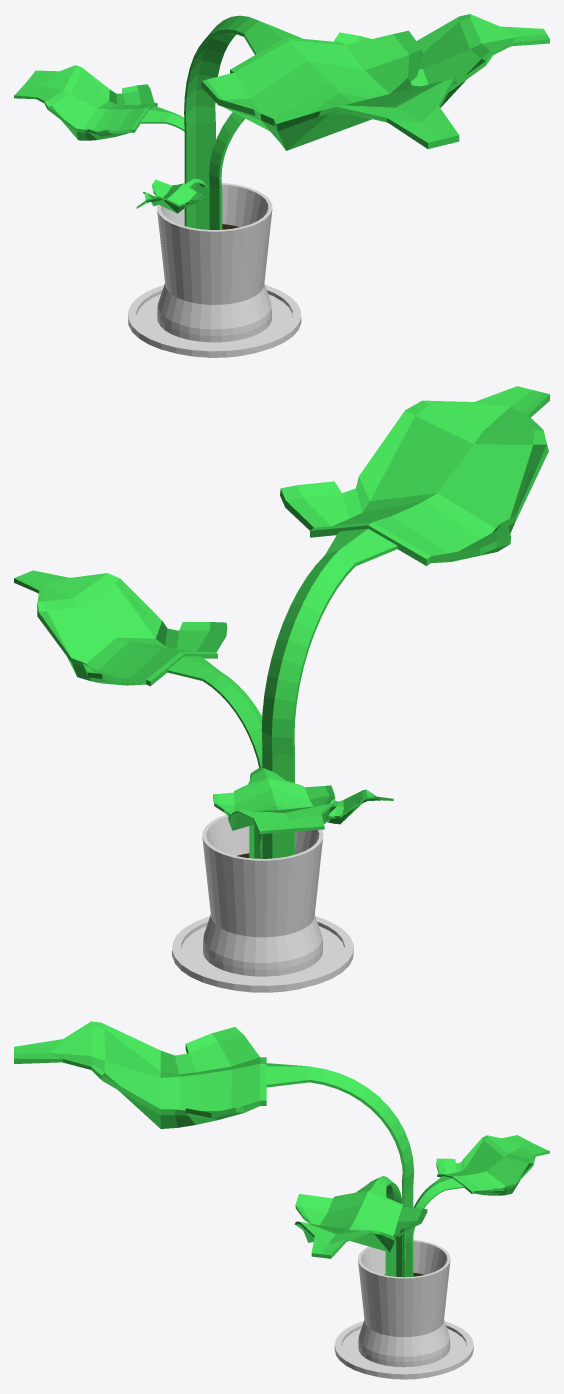
The model's file is plant.fbx.
3 renders of one model, top to bottom at view 1: azimuth 30°, elevation 25°; view 2: azimuth 150°, elevation 25°; view 3: azimuth 270°, elevation 25°, orthographic. The views are drawn at different scales.
Visible parts, largest first — view 1: Plants, Vase; view 2: Plants, Vase; view 3: Plants, Vase.
Part boxes in pixels (x1,y1,x2,y2): Plants: (14, 14, 549, 229); Vase: (128, 183, 301, 357); Plants: (14, 386, 549, 858); Vase: (172, 814, 353, 992); Plants: (14, 1021, 549, 1277); Vase: (334, 1239, 473, 1379).
Bounding box in the file's own units: 2742 × 2411 × 3847.
